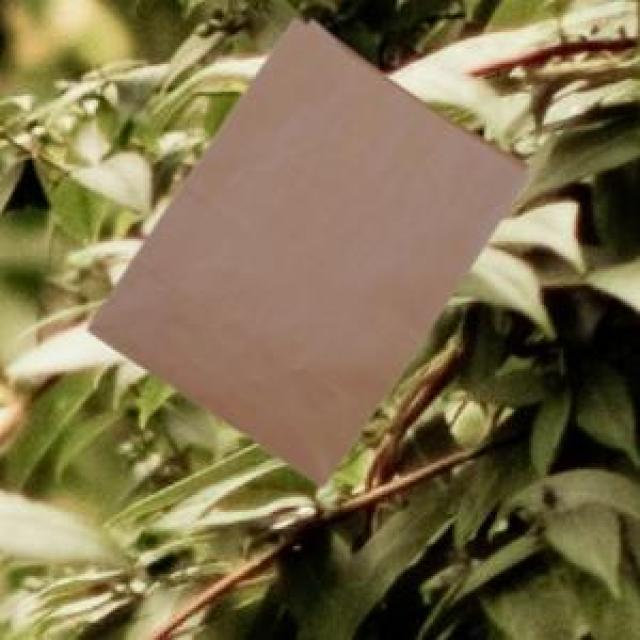paper: (83, 15, 525, 482)
